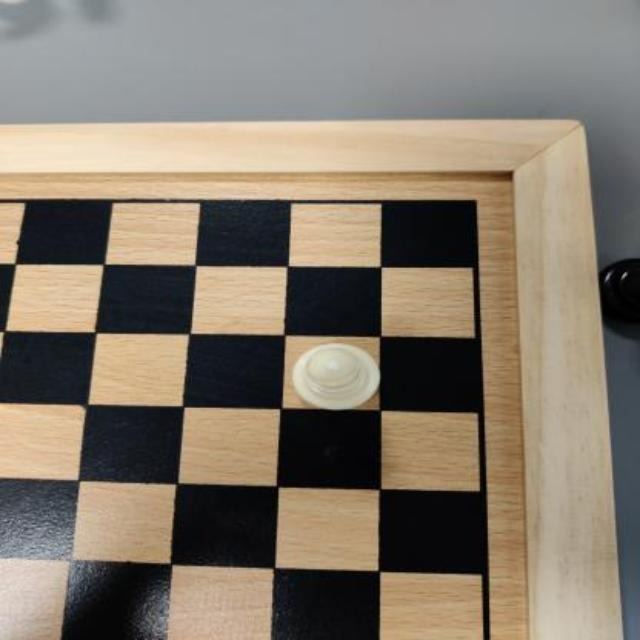white-bishop: (292, 344, 381, 410)
